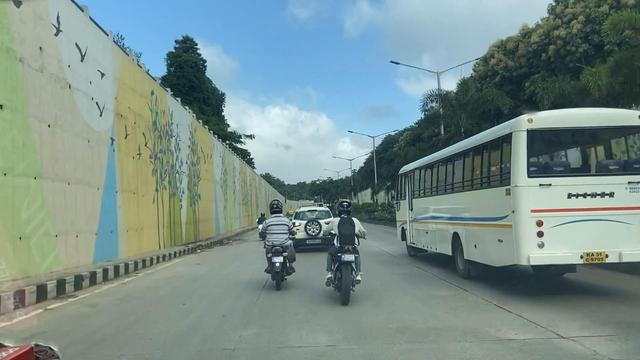HMV: (403, 107, 640, 281)
LMV: (326, 204, 366, 303), (260, 207, 296, 288), (295, 203, 332, 243)
